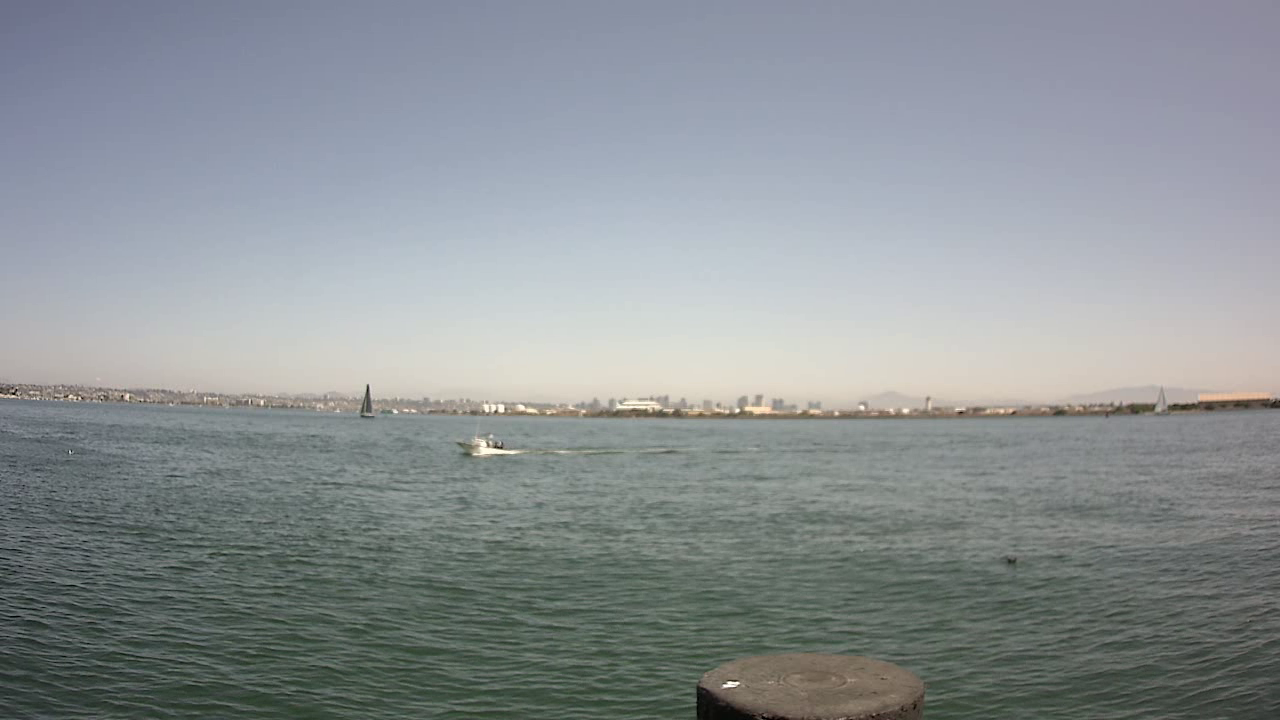target: (449, 416, 525, 462)
